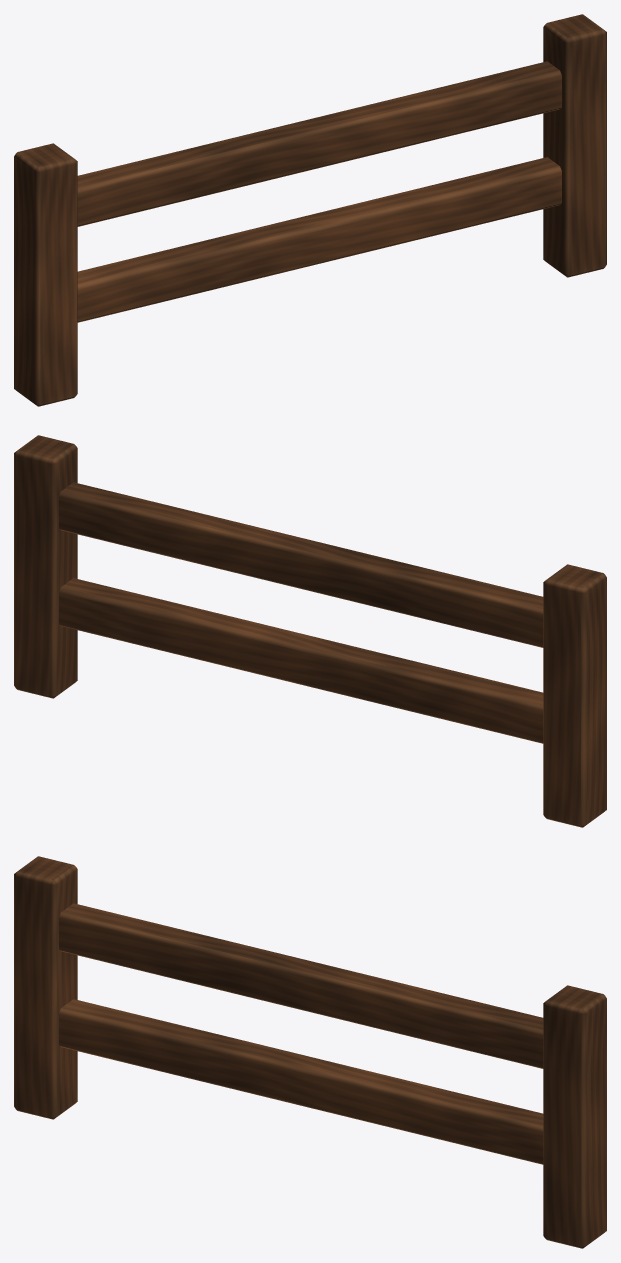
Rendered from Furn_Sword_ArenaFence.fbx.
The picture shows the model from 3 angles, top to bottom: view 1: azimuth 30°, elevation 25°; view 2: azimuth 150°, elevation 25°; view 3: azimuth 330°, elevation 25°; orthographic projection.
Visible parts, largest first — view 1: Furn_Sword_ArenaFence; view 2: Furn_Sword_ArenaFence; view 3: Furn_Sword_ArenaFence.
Boxes of the visible parts, x1,y1,x2,y2 form: Furn_Sword_ArenaFence: [14, 14, 606, 406]; Furn_Sword_ArenaFence: [14, 435, 606, 827]; Furn_Sword_ArenaFence: [14, 856, 606, 1248].
Bounding box in the file's own units: 2 × 0.8 × 0.15.
1 material, 1 textured.
